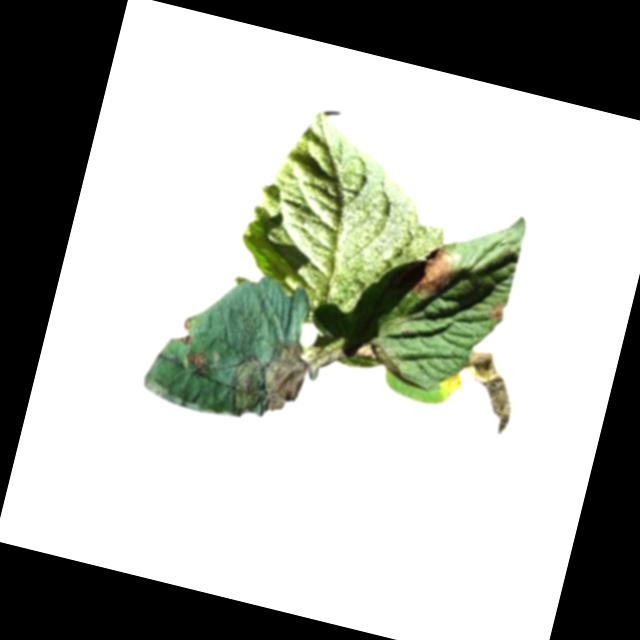Late_blight: (225, 330, 312, 427), (448, 344, 524, 437), (415, 244, 456, 301), (486, 298, 509, 329), (182, 345, 208, 368)
